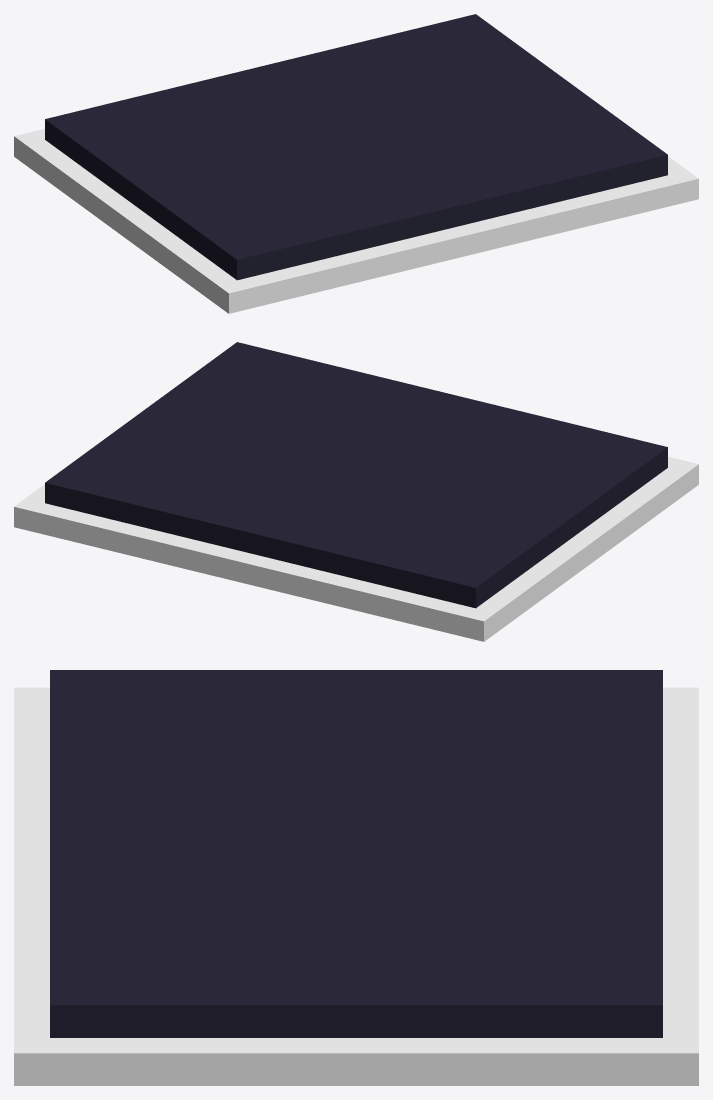
File: lavagna.gltf
3 views of the same model, one above another, from view 1: azimuth 30°, elevation 25°; view 2: azimuth 150°, elevation 25°; view 3: azimuth 270°, elevation 25° (orthographic). The views are drawn at different scales.
Parts seen in each view (by area): view 1: Layer.2, Layer.1; view 2: Layer.2, Layer.1; view 3: Layer.2, Layer.1.
Part boxes in pixels (box(x1,y1,x2,y2)): Layer.2: box(45, 14, 667, 280); Layer.1: box(14, 128, 698, 313); Layer.2: box(45, 342, 667, 608); Layer.1: box(14, 456, 698, 641); Layer.2: box(50, 670, 662, 1037); Layer.1: box(14, 687, 698, 1085).
Bounding box in the file's own units: 24 × 2 × 19.
1 material, 1 textured.
